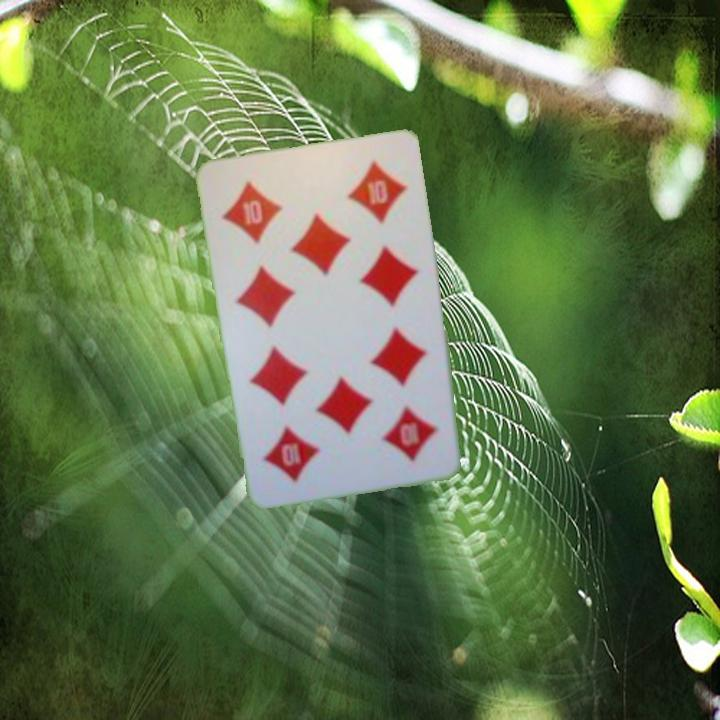d_10.png: (340, 379, 451, 478), (211, 160, 322, 259)
